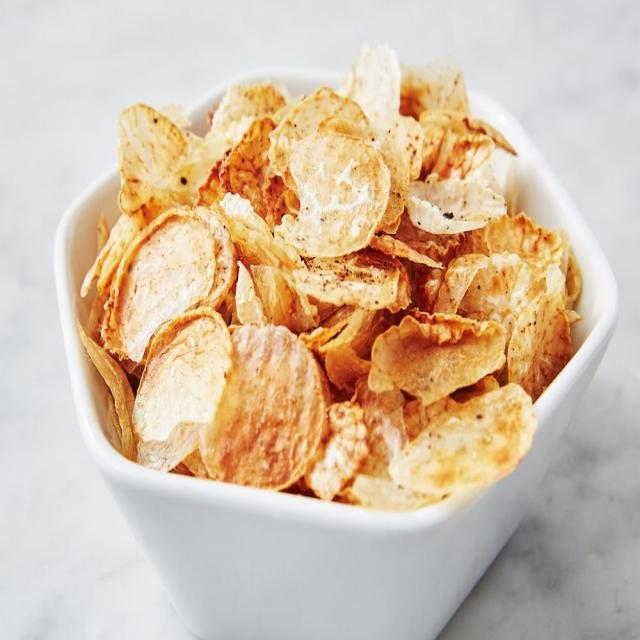Chips packaged: (90, 74, 559, 506)
